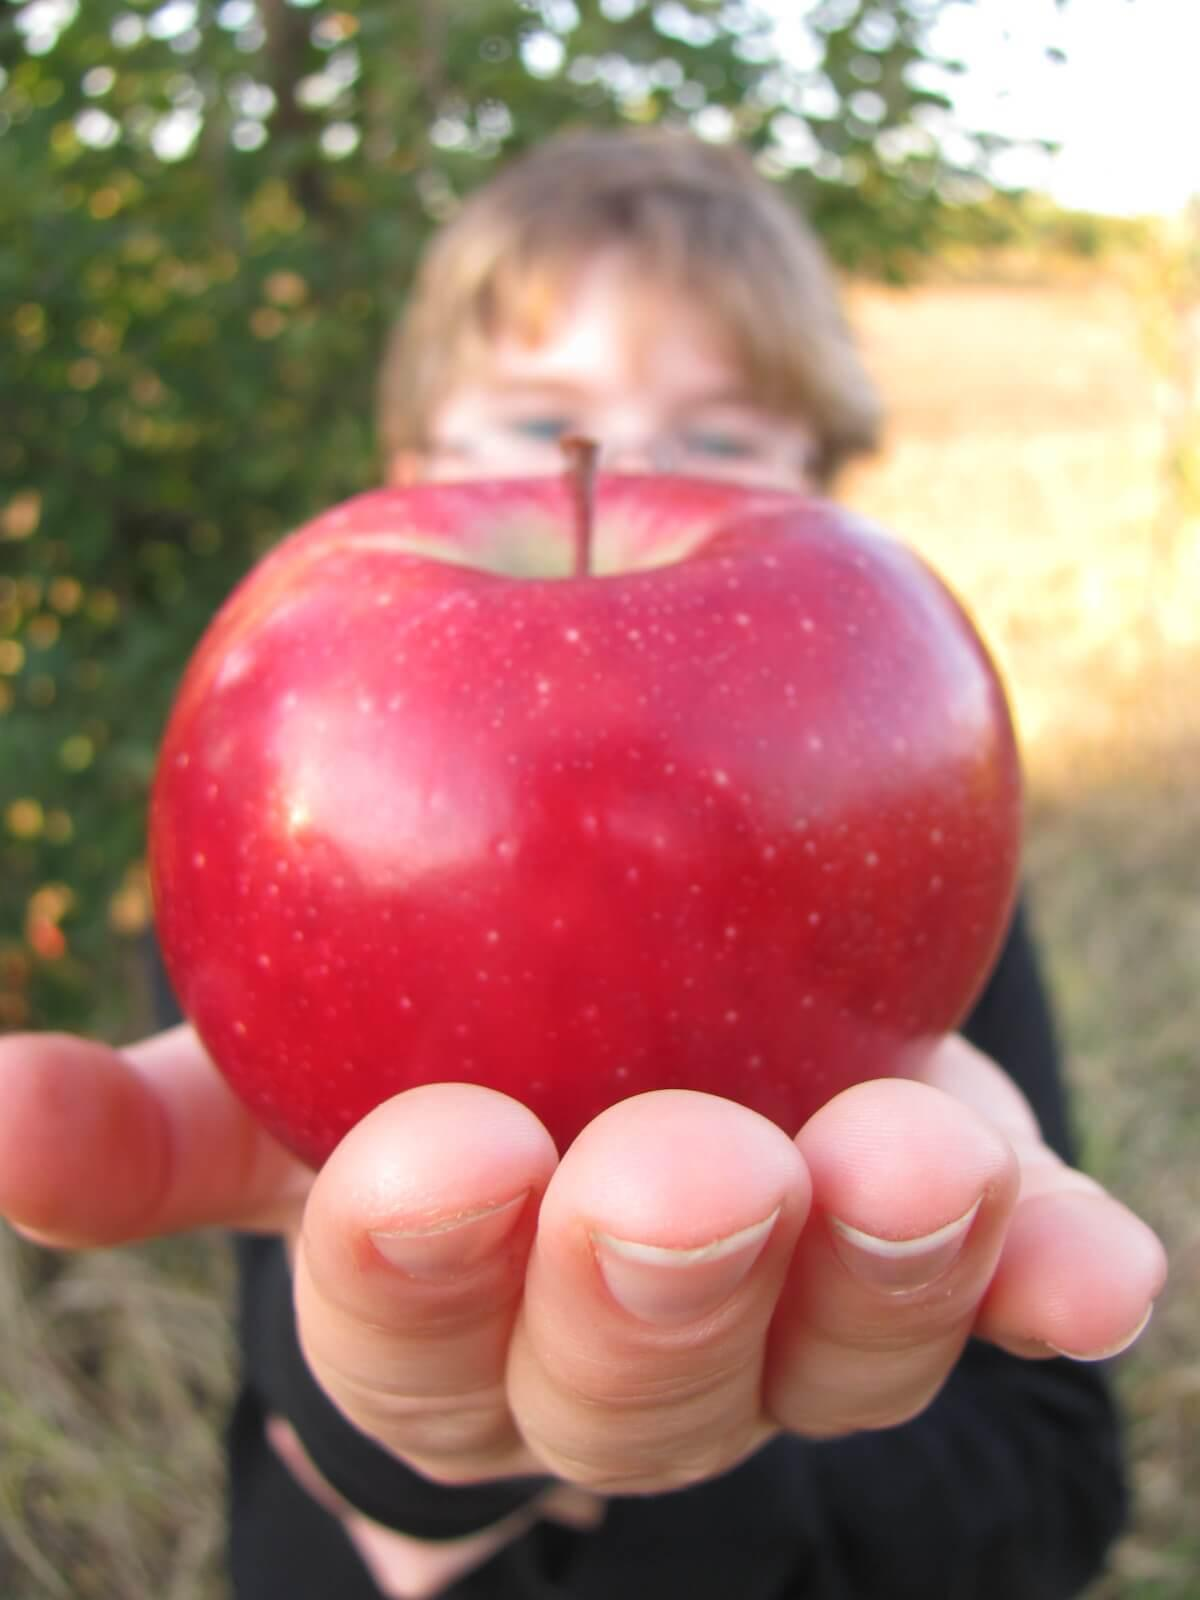Apple Fresh: (175, 420, 1060, 1140)
